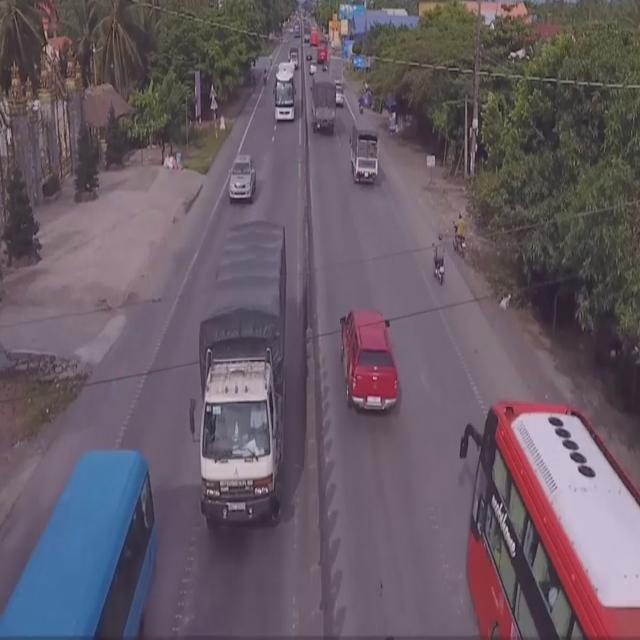bus: (458, 400, 640, 640), (0, 447, 156, 640), (272, 58, 298, 122)
car: (335, 308, 400, 417), (227, 151, 254, 204)
motorbike: (432, 232, 448, 288), (452, 213, 468, 261)
truck: (193, 222, 289, 529), (348, 124, 379, 184), (310, 75, 338, 137)
